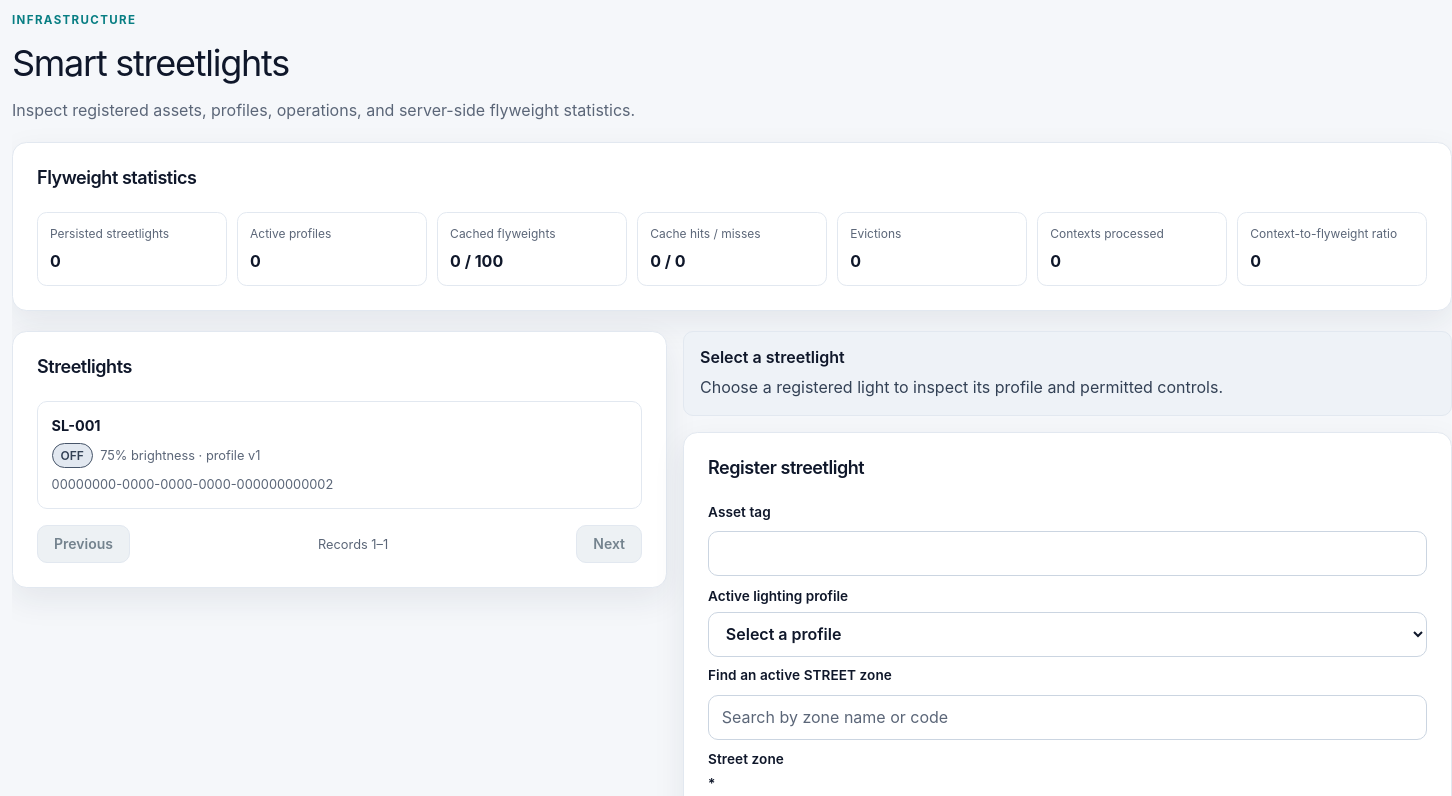
Scenario: StreetlightsPage brightness override display › renders {"id":"light-1","assetTag":"SL-001","profileId":"00000000-0000-0000-0000-000000000003","profileVersion":1,"streetZoneId":"00000000-0000-0000-0000-000000
This screenshot has width=1452, height=796.
Click the button "SL-001" at point(76, 426), box [37,401,642,509]
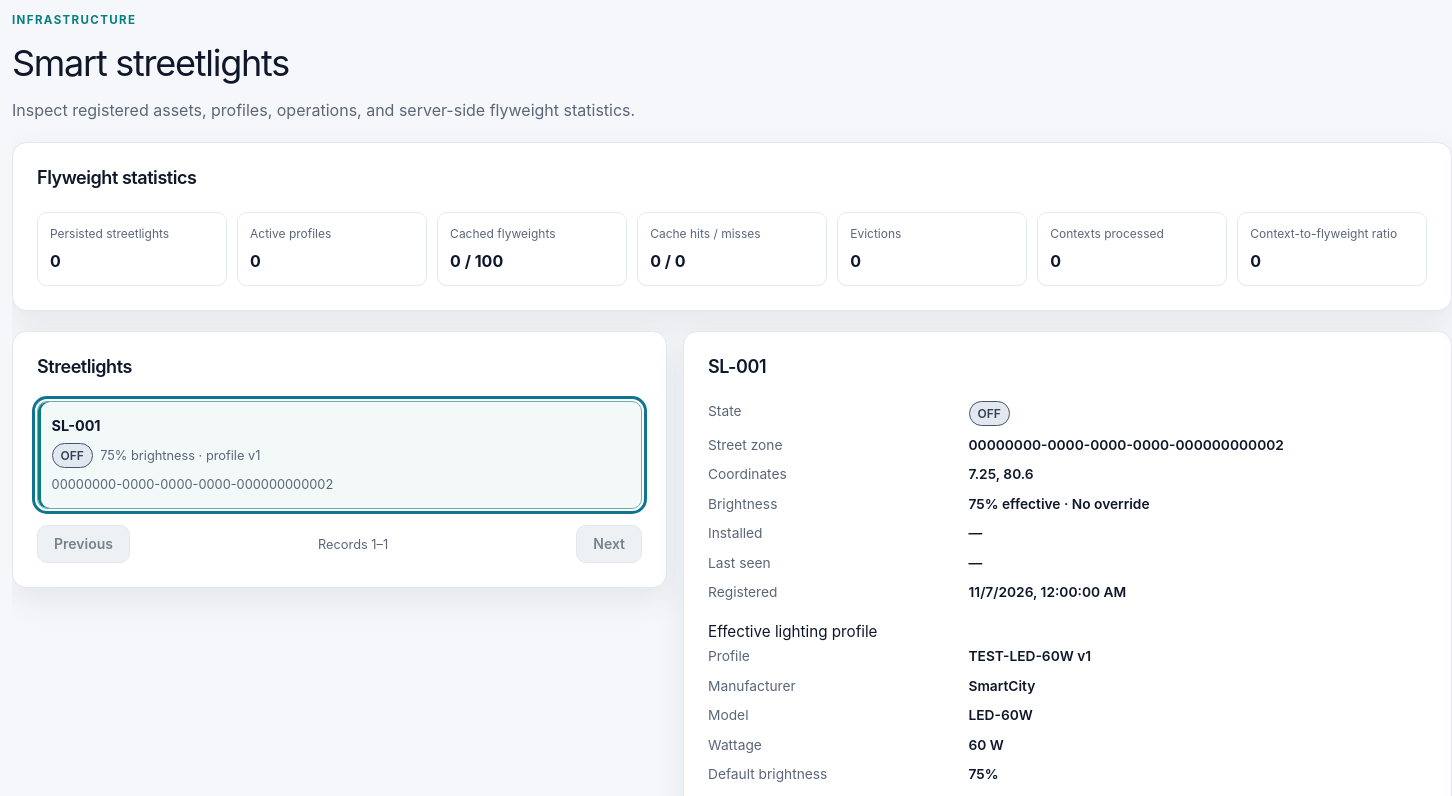
Expected: the text "75% effective · No override" is shown, [968,496,1150,512]
